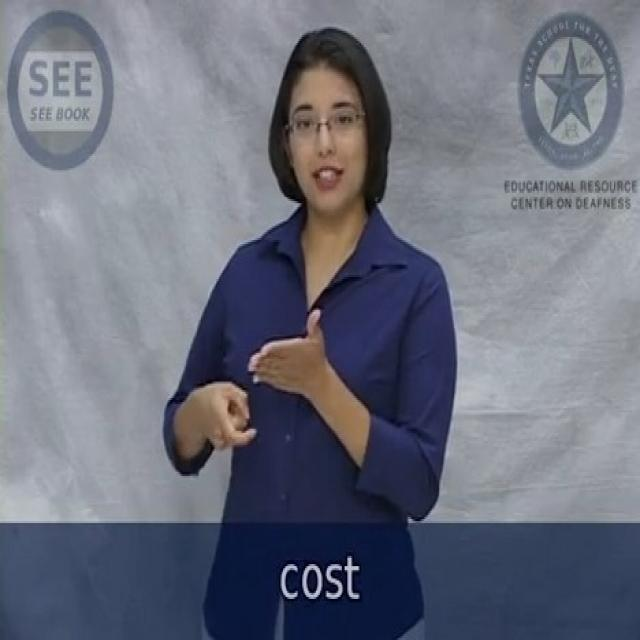cost: (194, 298, 328, 452)
